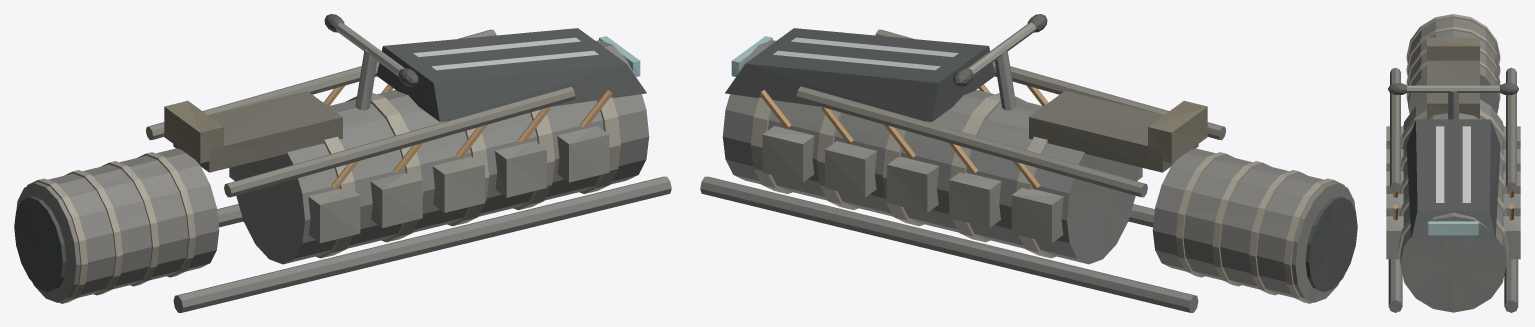
Rendered from airbike_black_off.glb.
The picture shows the model from 3 angles, left to right: view 1: azimuth 30°, elevation 25°; view 2: azimuth 150°, elevation 25°; view 3: azimuth 270°, elevation 25°; orthographic projection. The views are drawn at different scales.
Visible parts, largest first — view 1: main_engine, rear_turbine, yellow_front_cover, lower_frame_-0.37, seat, upper_frame_-0.37, exhaust_dark, rear_seat_riser, engine_block_-0.37_4, engine_block_-0.37_0, engine_block_-0.37_1, engine_block_-0.37_2 (+16 smaller); view 2: main_engine, rear_turbine, yellow_front_cover, lower_frame_0.37, seat, upper_frame_0.37, exhaust_dark, rear_seat_riser, engine_block_0.37_4, engine_block_0.37_0, engine_block_0.37_1, engine_block_0.37_2 (+16 smaller); view 3: main_engine, yellow_front_cover, rear_turbine, seat, rear_seat_riser, upper_frame_-0.37, upper_frame_0.37, front_light, lower_frame_-0.37, lower_frame_0.37, handlebar, racing_stripe_0 (+23 smaller).
Boxes of the visible parts, x1,y1,x2,y2 form: main_engine: [233, 40, 649, 264]; rear_turbine: [16, 148, 219, 302]; yellow_front_cover: [376, 28, 646, 121]; lower_frame_-0.37: [173, 176, 671, 312]; seat: [173, 91, 342, 172]; upper_frame_-0.37: [224, 86, 575, 197]; exhaust_dark: [14, 196, 66, 292]; rear_seat_riser: [164, 100, 223, 163]; engine_block_-0.37_4: [557, 126, 609, 182]; engine_block_-0.37_0: [308, 188, 360, 243]; engine_block_-0.37_1: [370, 172, 422, 227]; engine_block_-0.37_2: [432, 156, 484, 212]; main_engine: [722, 40, 1138, 264]; rear_turbine: [1152, 148, 1355, 302]; yellow_front_cover: [725, 28, 995, 121]; lower_frame_0.37: [700, 176, 1198, 312]; seat: [1029, 91, 1198, 172]; upper_frame_0.37: [796, 86, 1147, 197]; exhaust_dark: [1305, 196, 1357, 292]; rear_seat_riser: [1148, 100, 1207, 163]; engine_block_0.37_4: [762, 126, 814, 182]; engine_block_0.37_0: [1011, 188, 1063, 243]; engine_block_0.37_1: [949, 172, 1001, 227]; engine_block_0.37_2: [887, 156, 939, 212]; main_engine: [1400, 99, 1506, 312]; yellow_front_cover: [1406, 119, 1500, 239]; rear_turbine: [1408, 16, 1498, 113]; seat: [1427, 60, 1479, 118]; rear_seat_riser: [1427, 37, 1479, 60]; upper_frame_-0.37: [1390, 67, 1400, 191]; upper_frame_0.37: [1506, 67, 1516, 191]; front_light: [1428, 221, 1478, 235]; lower_frame_-0.37: [1388, 259, 1402, 312]; lower_frame_0.37: [1504, 259, 1518, 312]; handlebar: [1406, 85, 1500, 92]; racing_stripe_0: [1436, 126, 1444, 202].
Bounding box in the file's own units: 3.22 × 1.01 × 0.86.
